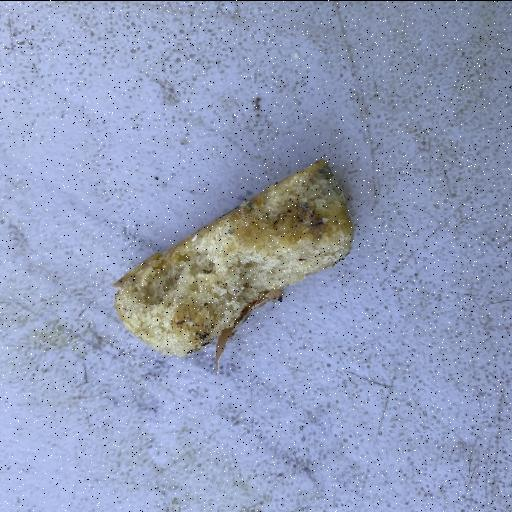Waste: (110, 156, 354, 368)
